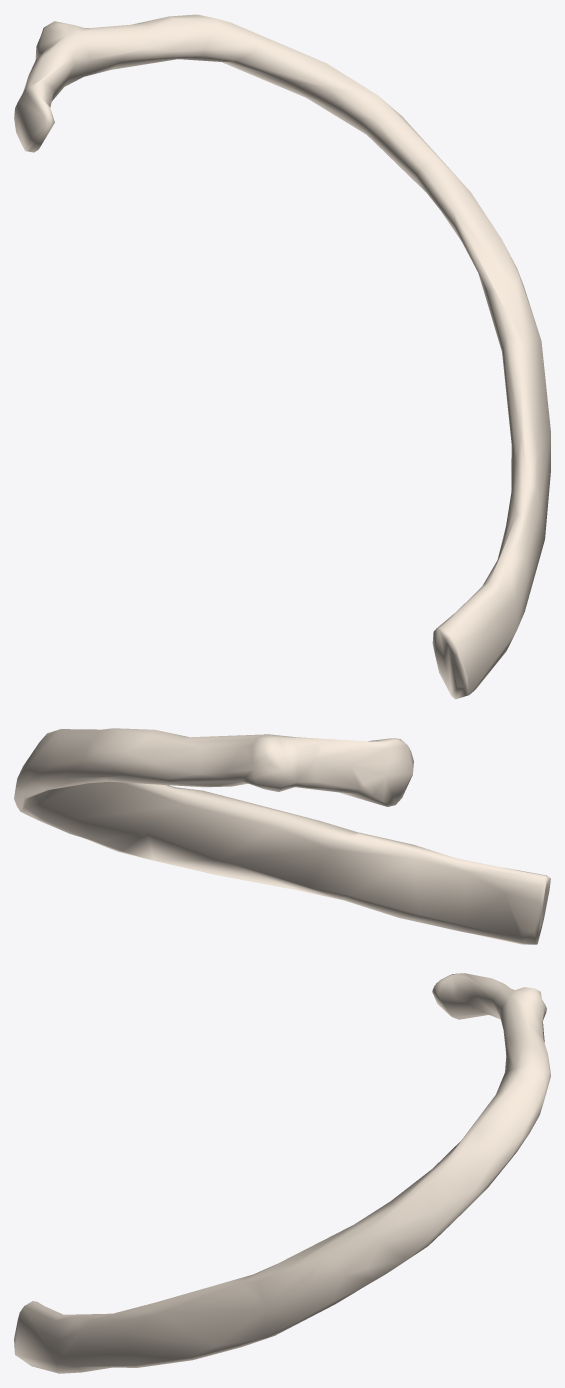
The model's file is left_rib_3.glb.
The picture shows the model from 3 angles, top to bottom: view 1: azimuth 30°, elevation 25°; view 2: azimuth 150°, elevation 25°; view 3: azimuth 270°, elevation 25°; orthographic projection. The views are drawn at different scales.
Parts seen in each view (by area): view 1: Rib (3rd).r; view 2: Rib (3rd).r; view 3: Rib (3rd).r.
Part boxes in pixels (box(x1,y1,x2,y2)): Rib (3rd).r: box(14, 14, 550, 699); Rib (3rd).r: box(14, 728, 550, 944); Rib (3rd).r: box(14, 973, 550, 1373).
Bounding box in the file's own units: 0.0722 × 0.0771 × 0.1081.
